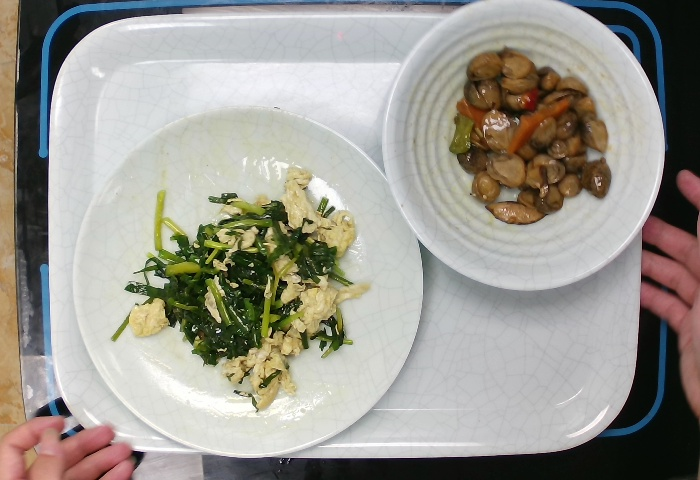JYsf-Da_Yuan_Pan: (71, 100, 432, 462)
JYsf-Xiao_Tang_Wan: (376, 1, 673, 296)
